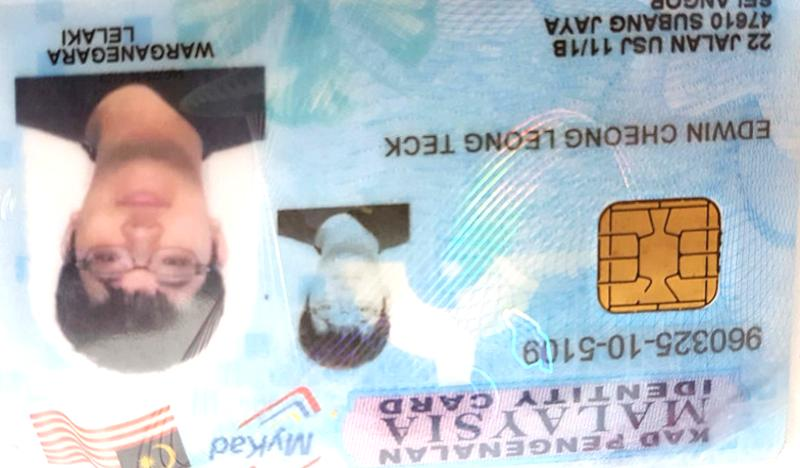hologram: (416, 153, 553, 303)
